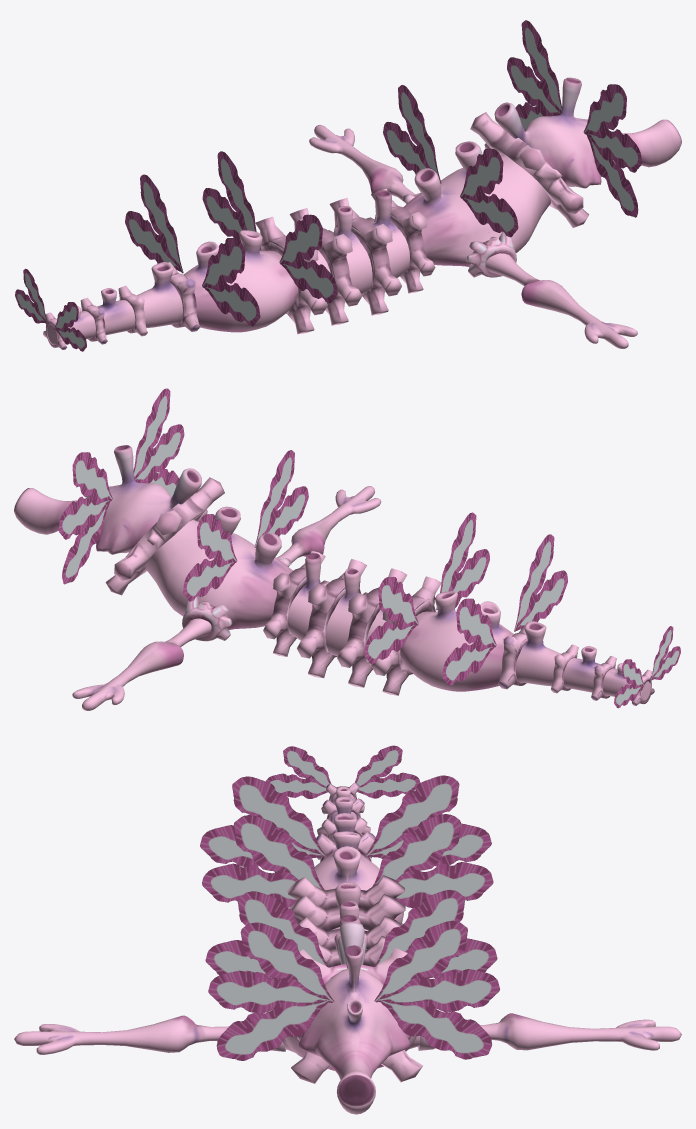
File: Axolotl.fbx
3 renders of one model, top to bottom at view 1: azimuth 30°, elevation 25°; view 2: azimuth 150°, elevation 25°; view 3: azimuth 270°, elevation 25°, orthographic. The views are drawn at different scales.
Parts seen in each view (by area): view 1: Axolotl.003, shells.023, shells.026, shells.027, shells.025, shells.028, Plane.051, Plane.062, Plane.053, Plane.057, Plane.049, Plane.065 (+15 smaller); view 2: Axolotl.003, shells.023, shells.026, shells.027, shells.025, shells.028, Plane.049, Plane.051, Plane.065, Plane.055, Plane.059, Plane.057 (+15 smaller); view 3: Axolotl.003, Plane.060, Plane.063, Plane.065, Plane.062, Plane.064, Plane.061, Plane.053, Plane.055, Plane.051, Plane.049, Plane.054 (+17 smaller).
Part boxes in pixels (x1,y1,x2,y2): Axolotl.003: (46, 77, 681, 348); shells.023: (470, 112, 589, 227); shells.026: (328, 197, 401, 315); shells.027: (289, 208, 361, 325); shells.025: (366, 188, 435, 293); shells.028: (255, 216, 327, 334); Plane.051: (140, 174, 183, 273); Plane.062: (583, 84, 626, 138); Plane.053: (279, 214, 322, 268); Plane.057: (460, 148, 503, 202); Plane.049: (202, 238, 245, 291); Plane.065: (521, 20, 561, 113); Axolotl.003: (14, 445, 651, 710); shells.023: (105, 477, 224, 595); shells.026: (297, 559, 367, 678); shells.027: (337, 568, 406, 687); shells.025: (263, 550, 329, 656); shells.028: (371, 576, 441, 695); Plane.049: (514, 534, 554, 631); Plane.051: (456, 598, 496, 651); Plane.065: (72, 452, 112, 505); Plane.055: (378, 576, 418, 629); Plane.059: (197, 514, 237, 567); Plane.057: (254, 450, 294, 547); Axolotl.003: (14, 786, 681, 1114); Plane.060: (216, 1000, 327, 1060); Plane.063: (381, 1000, 492, 1059); Plane.065: (374, 920, 467, 1002); Plane.062: (240, 922, 334, 1002); Plane.064: (378, 969, 499, 1012); Plane.061: (208, 970, 330, 1013); Plane.053: (234, 815, 324, 890); Plane.055: (372, 814, 460, 886); Plane.051: (365, 775, 459, 856); Plane.049: (232, 776, 325, 857); Plane.054: (395, 862, 493, 907).
Size of the model in its own units: 357 by 111 by 294.
